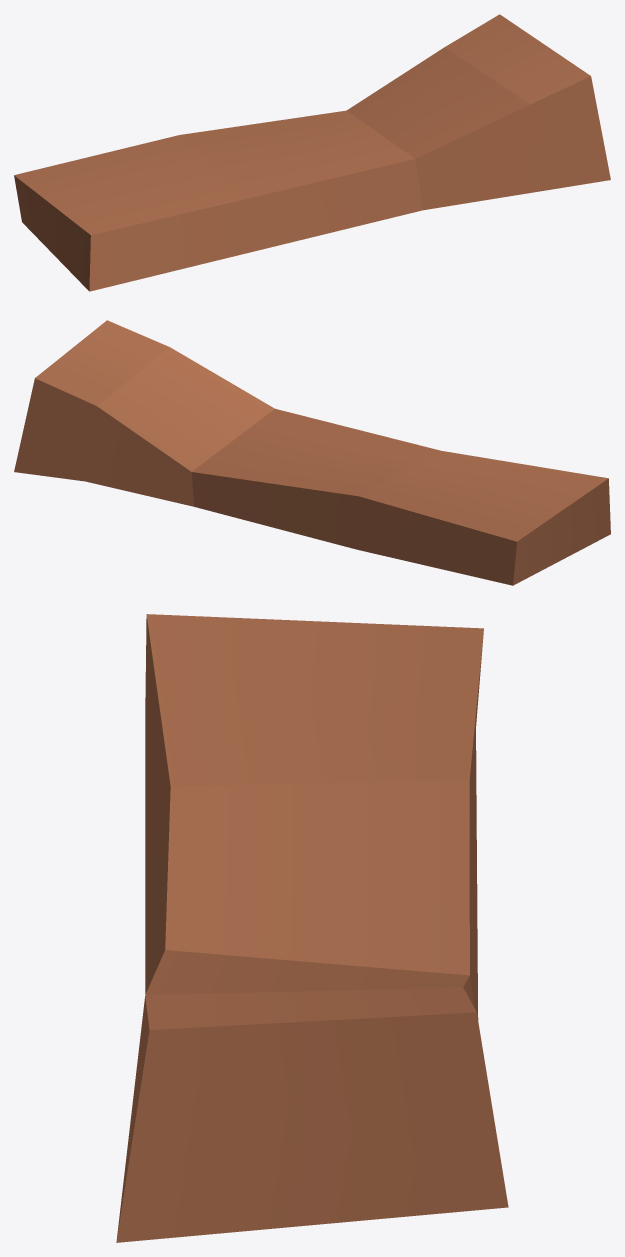
File: WeaponHolder_001.fbx
The picture shows the model from 3 angles, top to bottom: view 1: azimuth 30°, elevation 25°; view 2: azimuth 150°, elevation 25°; view 3: azimuth 270°, elevation 25°; orthographic projection. The views are drawn at different scales.
Visible parts, largest first — view 1: WeaponHolder.001; view 2: WeaponHolder.001; view 3: WeaponHolder.001.
Part boxes in pixels (x1,y1,x2,y2): WeaponHolder.001: [14, 14, 610, 291]; WeaponHolder.001: [14, 320, 610, 585]; WeaponHolder.001: [116, 614, 508, 1242].
Size of the model in its own units: 3.64 by 0.7106 by 1.2.
